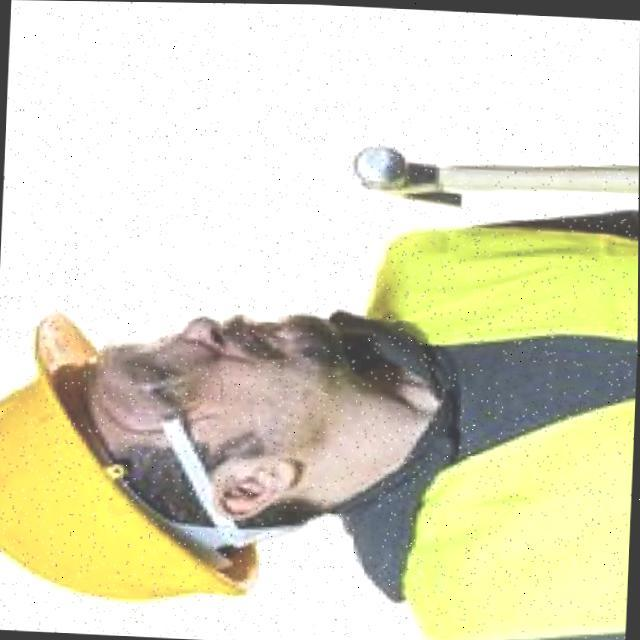goggles_on: (82, 330, 248, 571)
